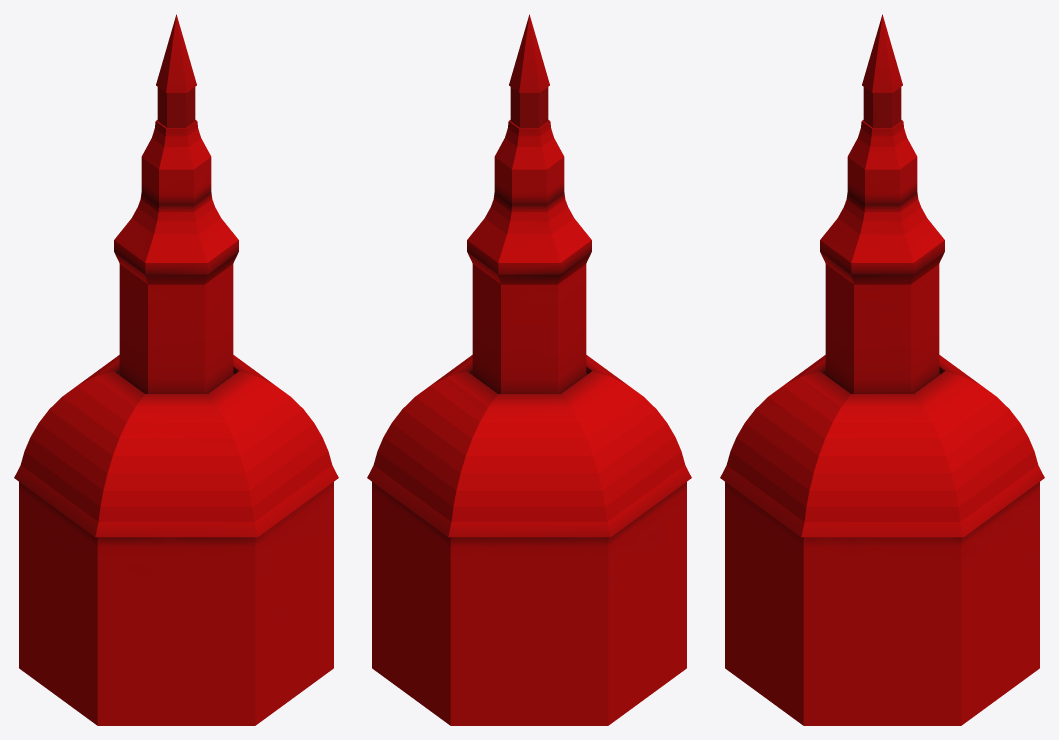
Rendered from TowerCollision_export.obj.
3 renders of one model, left to right at view 1: azimuth 30°, elevation 25°; view 2: azimuth 150°, elevation 25°; view 3: azimuth 270°, elevation 25°, orthographic.
Parts seen in each view (by area): view 1: MainBuildingBase, MainBuildingBigRoof, MainBuildingUpperRoof, MainBuildingLowerTower, MainBuildingUpperTower; view 2: MainBuildingBase, MainBuildingBigRoof, MainBuildingUpperRoof, MainBuildingLowerTower, MainBuildingUpperTower; view 3: MainBuildingBase, MainBuildingBigRoof, MainBuildingUpperRoof, MainBuildingLowerTower, MainBuildingUpperTower.
Boxes of the visible parts, x1,y1,x2,y2 form: MainBuildingBase: (19,482,333,725); MainBuildingBigRoof: (14,355,338,537); MainBuildingUpperRoof: (114,14,238,284); MainBuildingLowerTower: (118,264,234,393); MainBuildingUpperTower: (157,87,195,127); MainBuildingBase: (372,482,686,725); MainBuildingBigRoof: (367,355,691,537); MainBuildingUpperRoof: (467,14,591,284); MainBuildingLowerTower: (471,264,587,393); MainBuildingUpperTower: (510,87,548,127); MainBuildingBase: (725,482,1039,725); MainBuildingBigRoof: (720,355,1044,537); MainBuildingUpperRoof: (820,14,944,284); MainBuildingLowerTower: (824,264,940,393); MainBuildingUpperTower: (863,87,901,127).
Size of what is drawn, in the model's own units: 21.43 by 55 by 24.75.
